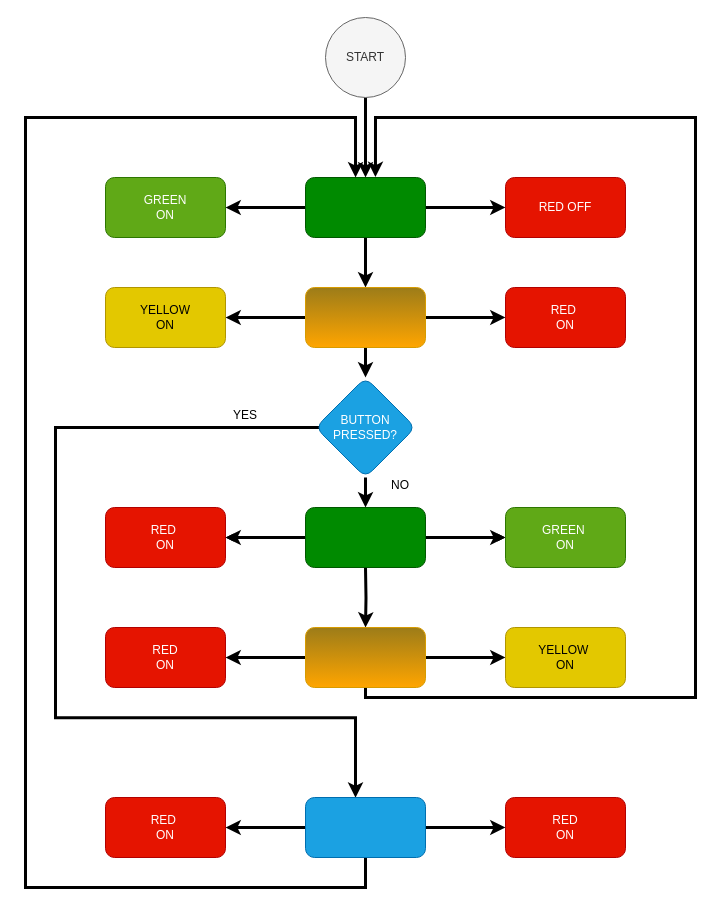
This 722x914 diagram has some shape labels left out. Each missing label, with the centre of its shape:
EW GREEN: the point at 365,537
EW YELLOW: the point at 365,657
NS GREEN: the point at 365,207
NS YELLOW: the point at 365,317
PEDESTRIAN CROSSING: the point at 365,827
